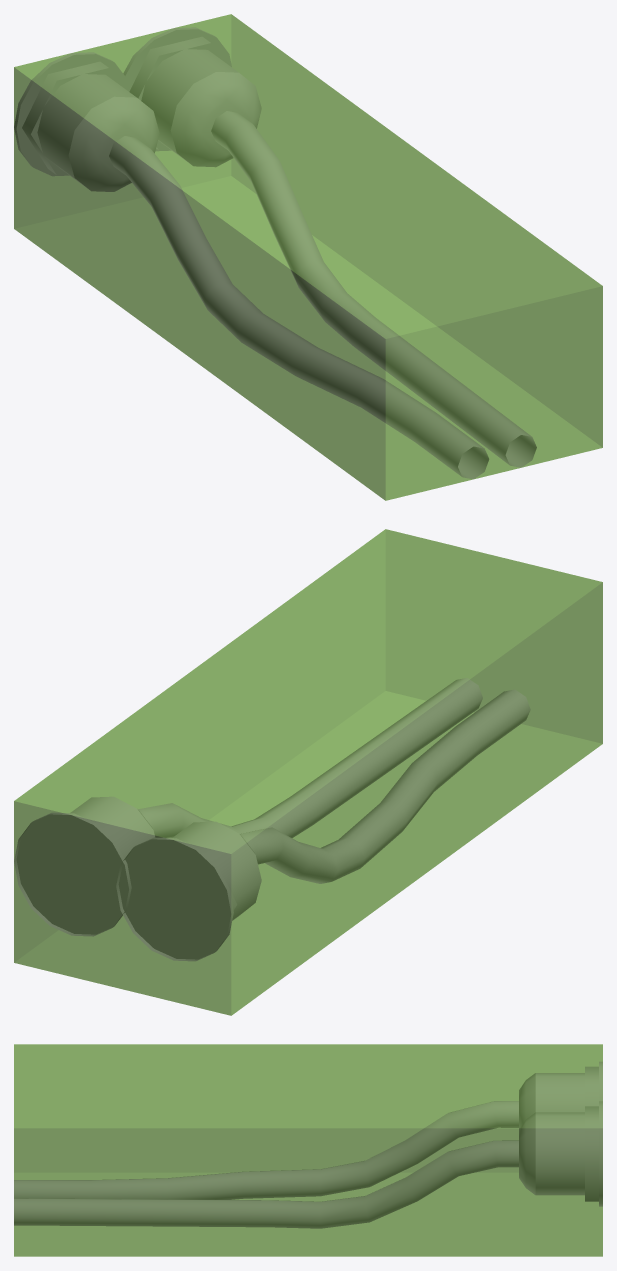
Rendered from p_CablingSmallConnectorCable_01_a.fbx.
3 renders of one model, top to bottom at view 1: azimuth 30°, elevation 25°; view 2: azimuth 150°, elevation 25°; view 3: azimuth 270°, elevation 25°, orthographic. The views are drawn at different scales.
Visible parts, largest first — view 1: p_CablingSmallConnectorCable_01_a_col, p_CablingSmallConnectorCable_01_a_LOD0; view 2: p_CablingSmallConnectorCable_01_a_col, p_CablingSmallConnectorCable_01_a_LOD0; view 3: p_CablingSmallConnectorCable_01_a_col, p_CablingSmallConnectorCable_01_a_LOD0.
Part boxes in pixels (x1=…): p_CablingSmallConnectorCable_01_a_col: x1=14, y1=14, x2=602, y2=500; p_CablingSmallConnectorCable_01_a_LOD0: x1=14, y1=27, x2=536, y2=479; p_CablingSmallConnectorCable_01_a_col: x1=14, y1=529, x2=602, y2=1015; p_CablingSmallConnectorCable_01_a_LOD0: x1=14, y1=678, x2=530, y2=961; p_CablingSmallConnectorCable_01_a_col: x1=14, y1=1044, x2=602, y2=1256; p_CablingSmallConnectorCable_01_a_LOD0: x1=14, y1=1061, x2=602, y2=1228.
Size of what is drawn, in the model's own units: 6.89 by 4.9 by 20.42.
